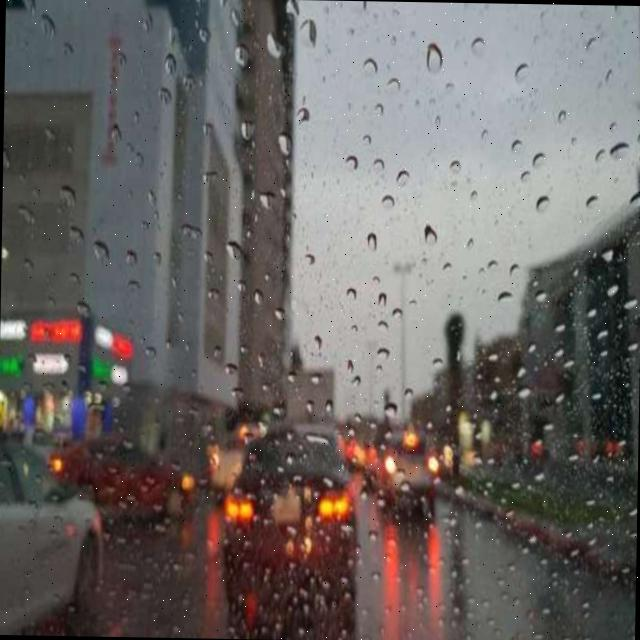car: (224, 423, 356, 623), (0, 439, 100, 627), (51, 436, 195, 520), (378, 424, 438, 513)
